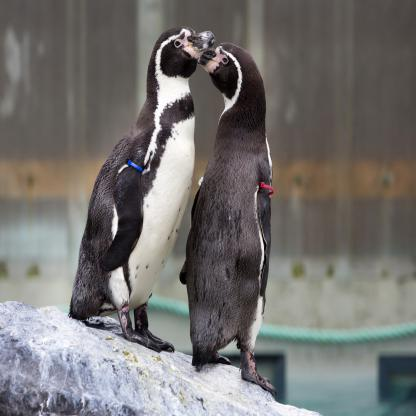Penguin: (57, 19, 222, 367), (176, 28, 300, 402)
